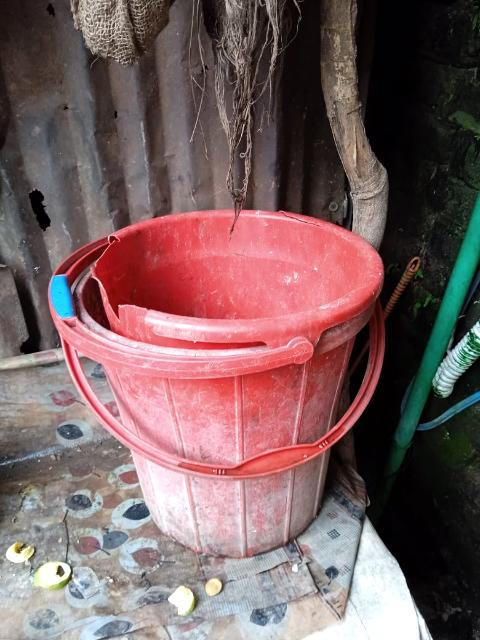hardplastic: (87, 230, 392, 537)
